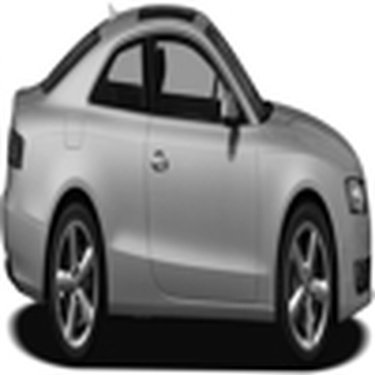car: (1, 1, 371, 370)
